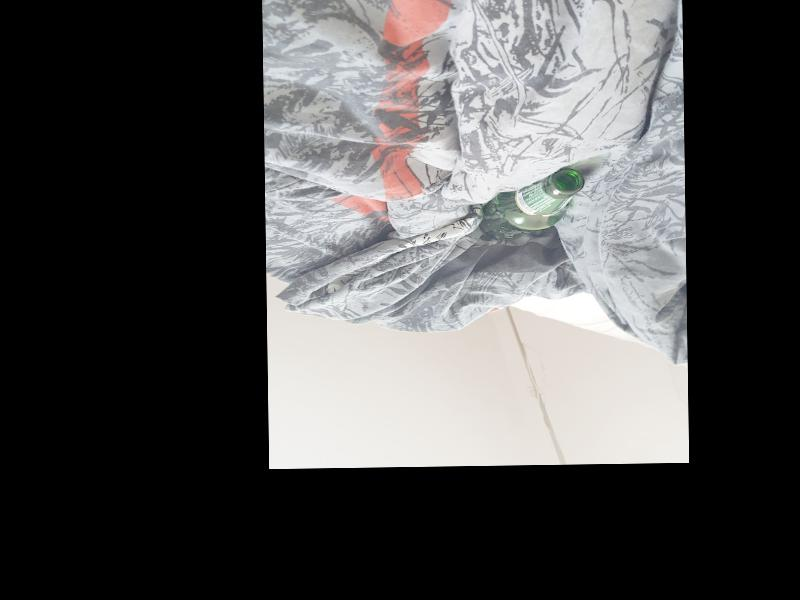Beer: (476, 166, 586, 239)
